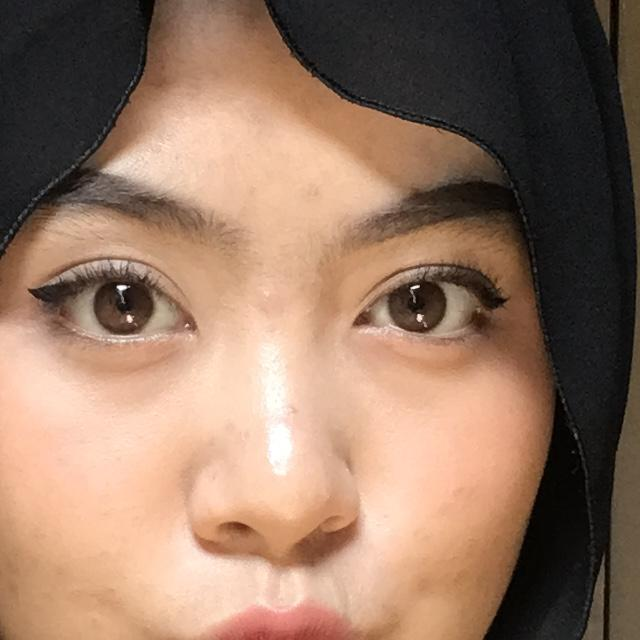sedih: (0, 56, 255, 640)
